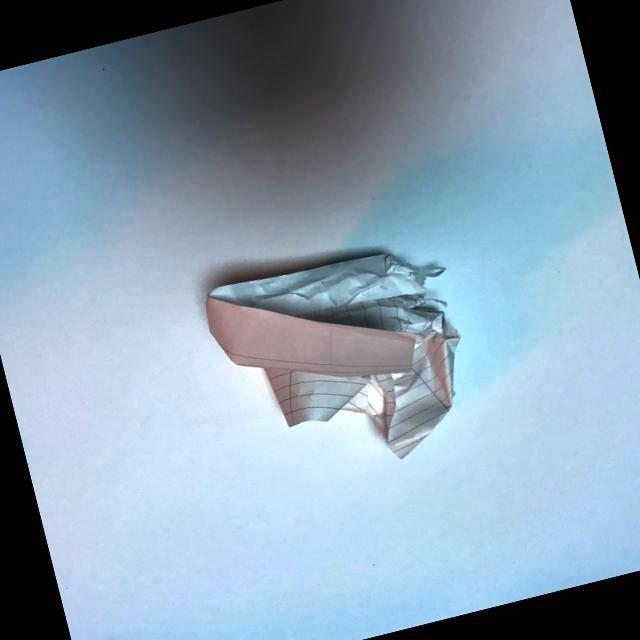paper: (158, 202, 522, 514)
